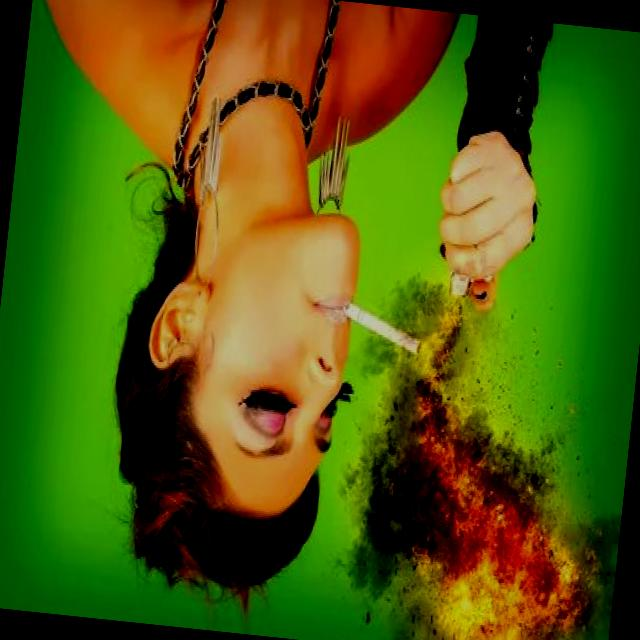smoke: (337, 294, 426, 356)
